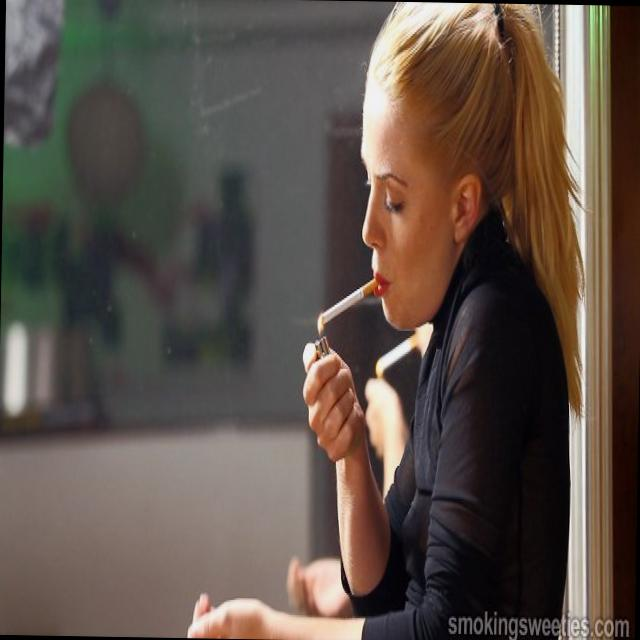cigarette: (306, 281, 376, 334)
